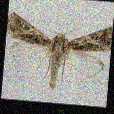Spodoptera litura: (4, 14, 110, 90)
